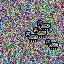sheep: (37, 20, 51, 31), (45, 39, 59, 50), (33, 27, 47, 38), (25, 31, 39, 42)
